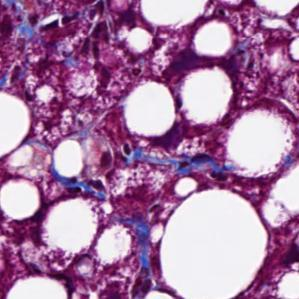inflammation: (96, 147, 121, 174)
